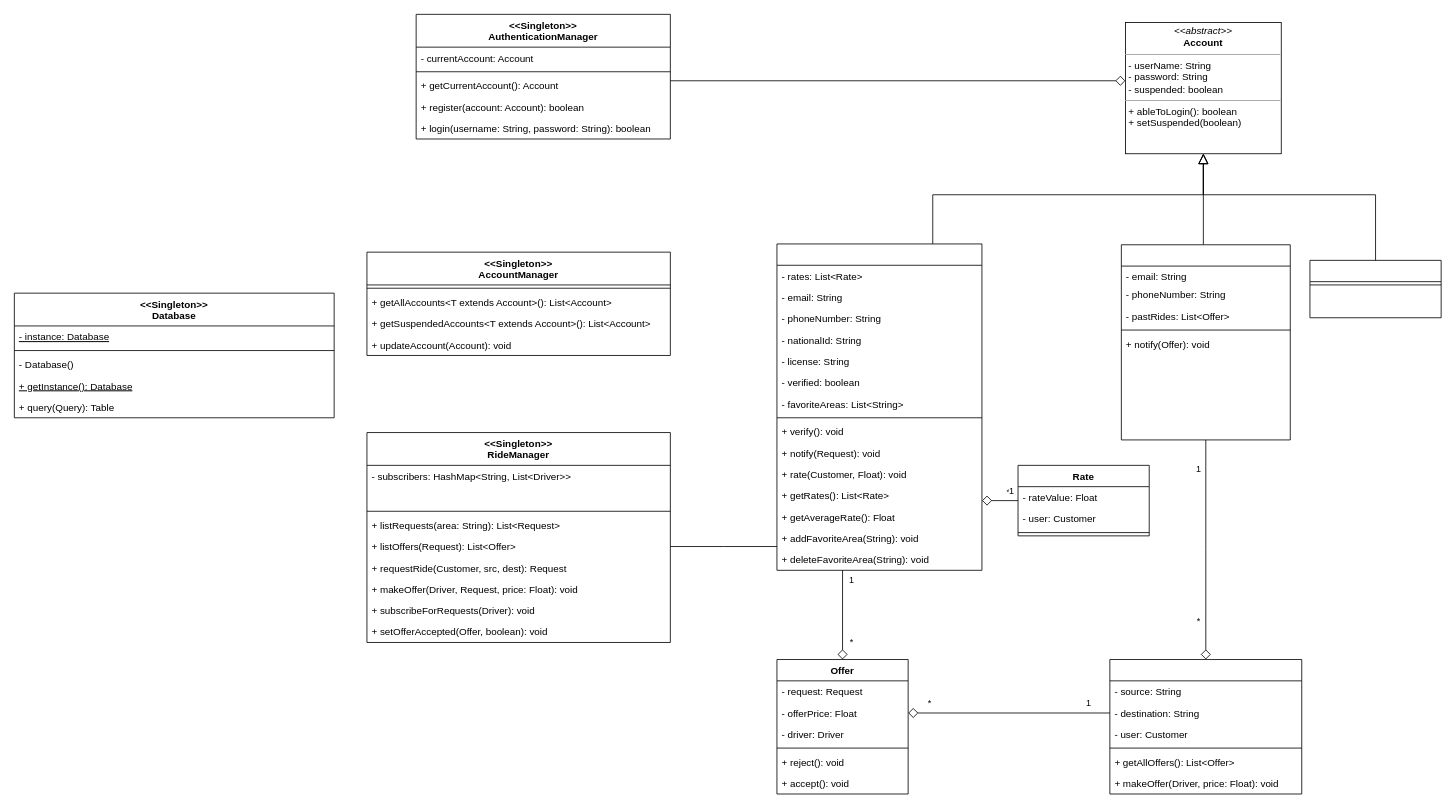
Some shapes in this 1456 by 811 pixel diagram are drawn without their labels. Each missing label, with the box of its shape:
Admin: (1309, 260, 1441, 318)
Customer: (1121, 244, 1290, 440)
Driver: (776, 243, 982, 570)
Request: (1109, 659, 1302, 794)
